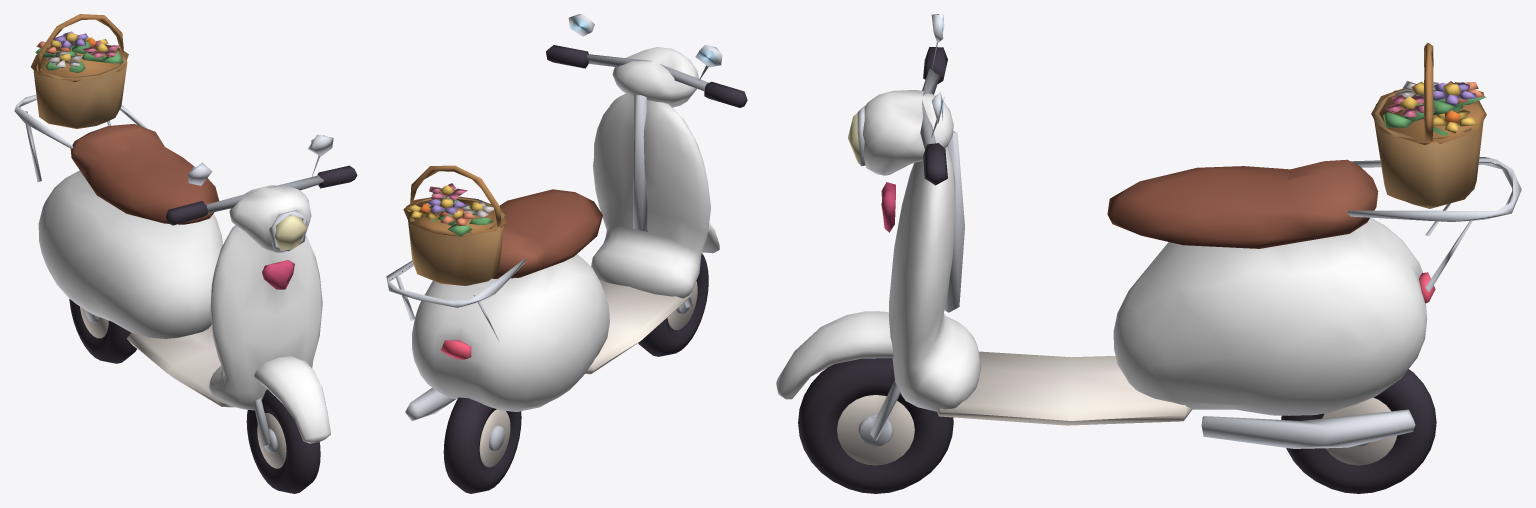
The model's file is veh_scooter_lite.glb.
3 views of the same model, side by side, from view 1: azimuth 30°, elevation 25°; view 2: azimuth 150°, elevation 25°; view 3: azimuth 270°, elevation 25° (orthographic). The views are drawn at different scales.
Visible parts, largest first — view 1: SM_veh_scooter_lite_lean_paint, SM_veh_scooter_lite_lean, SM_veh_scooter_lite_lean_gloss, SM_veh_scooter_lite_wheel_f, SM_veh_scooter_lite_bars_paint, SM_veh_scooter_lite_bars_metal, SM_veh_scooter_lite_wheel_r, SM_veh_scooter_lite_lean_metal, SM_veh_scooter_lite_bars, SM_veh_scooter_lite_bars_gloss, SM_veh_scooter_lite_wheel_f_gloss, SM_veh_scooter_lite_wheel_r_gloss; view 2: SM_veh_scooter_lite_lean_paint, SM_veh_scooter_lite_lean, SM_veh_scooter_lite_wheel_r, SM_veh_scooter_lite_lean_gloss, SM_veh_scooter_lite_bars_paint, SM_veh_scooter_lite_bars_metal, SM_veh_scooter_lite_lean_metal, SM_veh_scooter_lite_wheel_f, SM_veh_scooter_lite_bars, SM_veh_scooter_lite_wheel_r_gloss, SM_veh_scooter_lite_wheel_f_gloss; view 3: SM_veh_scooter_lite_lean_paint, SM_veh_scooter_lite_lean, SM_veh_scooter_lite_lean_gloss, SM_veh_scooter_lite_wheel_f, SM_veh_scooter_lite_lean_metal, SM_veh_scooter_lite_wheel_r, SM_veh_scooter_lite_bars_paint, SM_veh_scooter_lite_bars_metal, SM_veh_scooter_lite_wheel_f_gloss, SM_veh_scooter_lite_wheel_r_gloss, SM_veh_scooter_lite_bars.
Boxes of the visible parts, left/top/right/bottom form: SM_veh_scooter_lite_lean_paint: left=38, top=170, right=330, bottom=443; SM_veh_scooter_lite_lean: left=31, top=14, right=218, bottom=224; SM_veh_scooter_lite_lean_gloss: left=127, top=260, right=294, bottom=407; SM_veh_scooter_lite_wheel_f: left=246, top=389, right=320, bottom=493; SM_veh_scooter_lite_bars_paint: left=229, top=185, right=311, bottom=253; SM_veh_scooter_lite_bars_metal: left=187, top=134, right=333, bottom=251; SM_veh_scooter_lite_wheel_r: left=69, top=299, right=136, bottom=363; SM_veh_scooter_lite_lean_metal: left=14, top=95, right=270, bottom=446; SM_veh_scooter_lite_bars: left=166, top=165, right=357, bottom=225; SM_veh_scooter_lite_bars_gloss: left=192, top=135, right=324, bottom=249; SM_veh_scooter_lite_wheel_f_gloss: left=257, top=413, right=286, bottom=468; SM_veh_scooter_lite_wheel_r_gloss: left=80, top=306, right=108, bottom=338; SM_veh_scooter_lite_lean_paint: left=412, top=93, right=719, bottom=411; SM_veh_scooter_lite_lean: left=403, top=165, right=602, bottom=285; SM_veh_scooter_lite_wheel_r: left=443, top=397, right=521, bottom=493; SM_veh_scooter_lite_lean_gloss: left=440, top=279, right=689, bottom=374; SM_veh_scooter_lite_bars_paint: left=612, top=47, right=698, bottom=107; SM_veh_scooter_lite_bars_metal: left=568, top=14, right=722, bottom=231; SM_veh_scooter_lite_lean_metal: left=386, top=258, right=692, bottom=420; SM_veh_scooter_lite_wheel_f: left=638, top=253, right=708, bottom=356; SM_veh_scooter_lite_bars: left=546, top=45, right=747, bottom=107; SM_veh_scooter_lite_wheel_r_gloss: left=479, top=409, right=510, bottom=467; SM_veh_scooter_lite_wheel_f_gloss: left=667, top=281, right=697, bottom=330; SM_veh_scooter_lite_lean_paint: left=776, top=146, right=1427, bottom=415; SM_veh_scooter_lite_lean: left=1107, top=42, right=1486, bottom=248; SM_veh_scooter_lite_lean_gloss: left=881, top=182, right=1435, bottom=425; SM_veh_scooter_lite_wheel_f: left=798, top=358, right=953, bottom=493; SM_veh_scooter_lite_lean_metal: left=870, top=157, right=1521, bottom=448; SM_veh_scooter_lite_wheel_r: left=1281, top=369, right=1436, bottom=493; SM_veh_scooter_lite_bars_paint: left=863, top=90, right=953, bottom=175; SM_veh_scooter_lite_bars_metal: left=857, top=14, right=964, bottom=312; SM_veh_scooter_lite_wheel_f_gloss: left=837, top=395, right=914, bottom=465; SM_veh_scooter_lite_wheel_r_gloss: left=1322, top=397, right=1396, bottom=465; SM_veh_scooter_lite_bars: left=923, top=47, right=947, bottom=185.
Bounding box in the file's own units: 0.7622 × 1.26 × 1.91.
